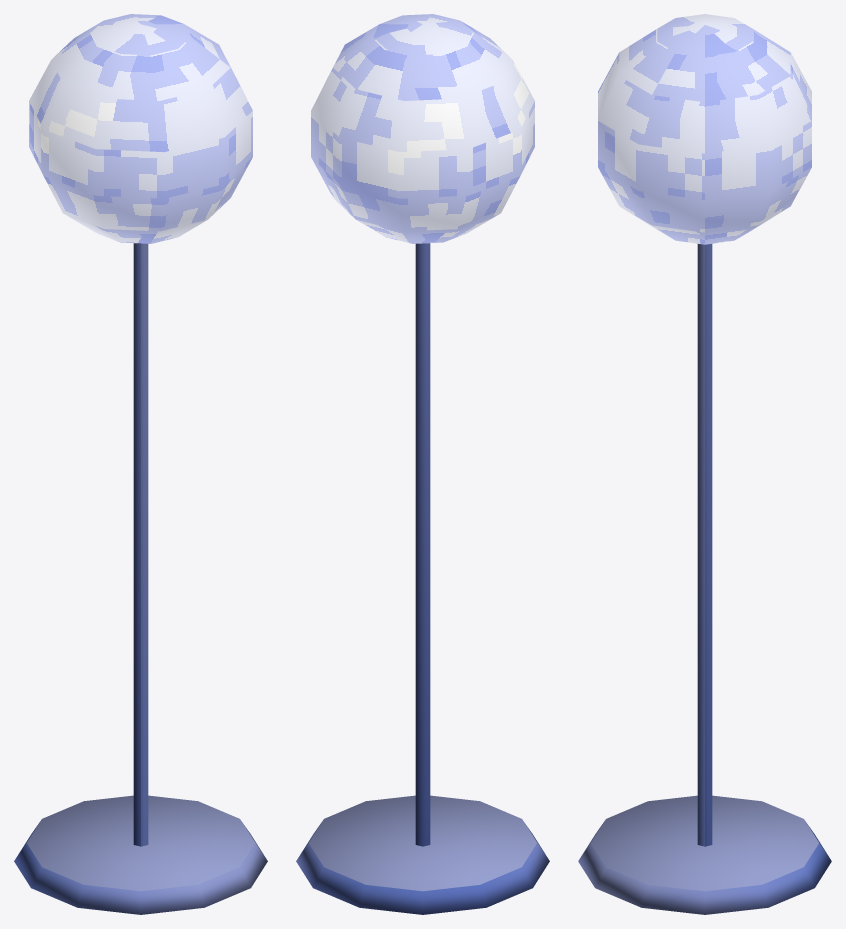
Rendered from furn.lamp.glb.
3 views of the same model, side by side, from view 1: azimuth 30°, elevation 25°; view 2: azimuth 150°, elevation 25°; view 3: azimuth 270°, elevation 25° (orthographic).
Visible parts, largest first — view 1: kit_lamp_shade, kit_lamp_stand; view 2: kit_lamp_shade, kit_lamp_stand; view 3: kit_lamp_shade, kit_lamp_stand.
Boxes of the visible parts, x1,y1,x2,y2 form: kit_lamp_shade: (29,14,252,243); kit_lamp_stand: (14,243,267,914); kit_lamp_shade: (311,14,534,243); kit_lamp_stand: (296,243,549,914); kit_lamp_shade: (598,14,811,244); kit_lamp_stand: (578,244,831,914).
Size of the model in its own units: 0.44 by 1.6 by 0.44.
Materials: 2 (1 with a texture image).
